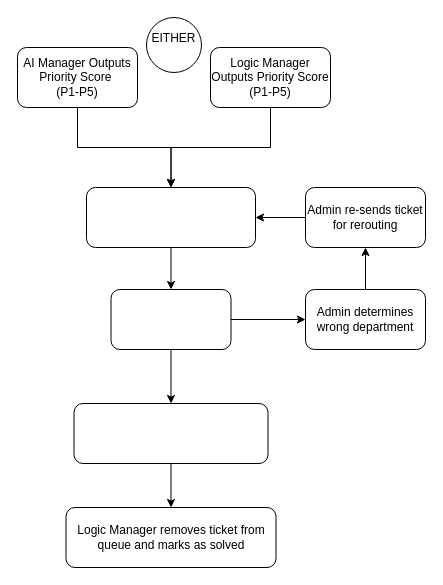
Image size: 443x585. Some labels were removed from this diagram. Each missing label, with the box of its shape:
Admin resolves the issue and marks it as resolved on the I/O manager (website): (73, 402, 268, 464)
I/O Manager will display the ticket(s) / queue of tickets: (110, 288, 231, 350)
Logic Manager will route the ticket to respective department: (86, 186, 256, 248)
